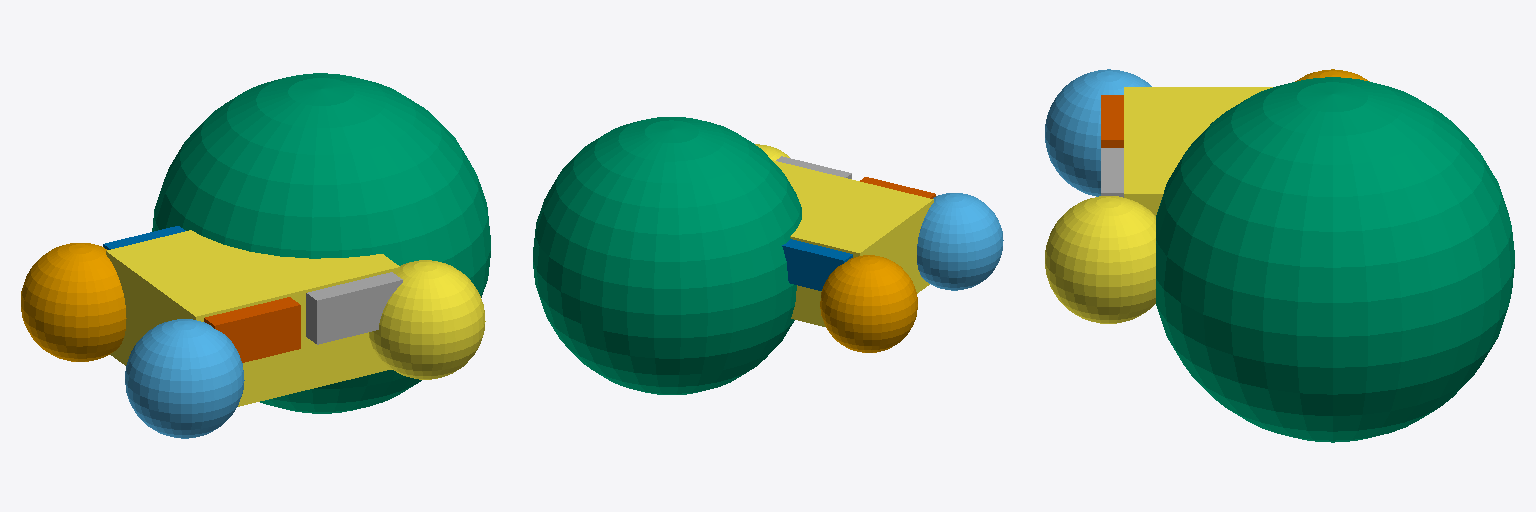
URDF robot description (TARS_V2):
<?xml version="1.0"?>
<!-- created with Phobos 0.8 -->
  <robot name="TARS_V2">

    <link name="link_camera_back">
    </link>

    <link name="link_camera_depth">
    </link>

    <link name="link_camera_front">
    </link>

    <link name="link_chassis">
      <inertial>
        <origin xyz="0 0 0.19608" rpy="0 0 0"/>
        <mass value="30.0"/>
        <inertia ixx="0.79449" ixy="0" ixz="0" iyy="1.21074" iyz="0" izz="1.56825"/>
      </inertial>
      <visual name="visual_chassis">
        <origin xyz="0 0 0" rpy="0 0 0"/>
        <geometry>
          <box size="0.63 0.48 0.29563"/>
        </geometry>
      </visual>
      <collision name="collision_chassis">
        <origin xyz="0 0 0.19608" rpy="0 0 0"/>
        <geometry>
          <box size="0.63 0.48 0.29562"/>
        </geometry>
      </collision>
    </link>

    <link name="link_suspension_backleft">
      <inertial>
        <origin xyz="-0.12007 -0.01981 -0.04013" rpy="0 0 0"/>
        <mass value="0.75"/>
        <inertia ixx="0.00147" ixy="0" ixz="0" iyy="0.00598" iyz="0" izz="0.00469"/>
      </inertial>
      <visual name="visual_suspension_backleft">
        <origin xyz="0 0 0" rpy="0 0 0"/>
        <geometry>
          <box size="0.26433 0.0781 0.12971"/>
        </geometry>
      </visual>
      <collision name="collision_suspension_backleft">
        <origin xyz="-0.12007 -0.01981 -0.04013" rpy="0 0 0"/>
        <geometry>
          <box size="0.27135 0.0381 0.14844"/>
        </geometry>
      </collision>
    </link>

    <link name="link_suspension_backright">
      <inertial>
        <origin xyz="-0.12007 0.02019 -0.04013" rpy="0 0 0"/>
        <mass value="0.75"/>
        <inertia ixx="0.00147" ixy="0" ixz="0" iyy="0.00598" iyz="0" izz="0.00469"/>
      </inertial>
      <visual name="visual_suspension_backright">
        <origin xyz="0 0 0" rpy="0 0 0"/>
        <geometry>
          <box size="0.26433 0.0781 0.12971"/>
        </geometry>
      </visual>
      <collision name="collision_suspension_backright">
        <origin xyz="-0.12007 0.02019 -0.04013" rpy="0 0 0"/>
        <geometry>
          <box size="0.27135 0.0381 0.14844"/>
        </geometry>
      </collision>
    </link>

    <link name="link_suspension_frontleft">
      <inertial>
        <origin xyz="0.12007 -0.02019 -0.04013" rpy="0 0 0"/>
        <mass value="0.75"/>
        <inertia ixx="0.00147" ixy="0" ixz="0" iyy="0.00598" iyz="0" izz="0.00469"/>
      </inertial>
      <visual name="visual_suspension_frontleft">
        <origin xyz="0 0 0" rpy="0 0 0"/>
        <geometry>
          <box size="0.26433 0.0781 0.12971"/>
        </geometry>
      </visual>
      <collision name="collision_suspension_frontleft">
        <origin xyz="0.12007 -0.02019 -0.04013" rpy="0 0 0"/>
        <geometry>
          <box size="0.27135 0.0381 0.14844"/>
        </geometry>
      </collision>
    </link>

    <link name="link_suspension_frontright">
      <inertial>
        <origin xyz="0.12007 0.01981 -0.04013" rpy="0 0 0"/>
        <mass value="0.75"/>
        <inertia ixx="0.00147" ixy="0" ixz="0" iyy="0.00598" iyz="0" izz="0.00469"/>
      </inertial>
      <visual name="visual_suspension_frontright">
        <origin xyz="0 0 0" rpy="0 0 0"/>
        <geometry>
          <box size="0.26433 0.0781 0.12972"/>
        </geometry>
      </visual>
      <collision name="collision_suspension_frontright">
        <origin xyz="0.12007 0.01981 -0.04013" rpy="0 0 0"/>
        <geometry>
          <box size="0.27134 0.0381 0.14845"/>
        </geometry>
      </collision>
    </link>

    <link name="link_wheel_backleft">
      <inertial>
        <origin xyz="0 0.10244 0" rpy="0 0 0"/>
        <mass value="1.5"/>
        <inertia ixx="0.01534" ixy="0" ixz="0" iyy="0.01534" iyz="0" izz="0.01534"/>
      </inertial>
      <visual name="visual_wheel_backleft">
        <origin xyz="0 0 0" rpy="0 0 0"/>
        <geometry>
          <sphere radius="0.15989"/>
        </geometry>
      </visual>
      <collision name="collision_wheel_backleft">
        <origin xyz="0 0.10244 0" rpy="0 0 0"/>
        <geometry>
          <sphere radius="0.15989"/>
        </geometry>
      </collision>
    </link>

    <link name="link_wheel_backright">
      <inertial>
        <origin xyz="0 -0.10254 0" rpy="0 0 0"/>
        <mass value="1.5"/>
        <inertia ixx="0.01534" ixy="0" ixz="0" iyy="0.01534" iyz="0" izz="0.01534"/>
      </inertial>
      <visual name="visual_wheel_backright">
        <origin xyz="0 0 0" rpy="0 0 0"/>
        <geometry>
          <sphere radius="0.15989"/>
        </geometry>
      </visual>
      <collision name="collision_wheel_backright">
        <origin xyz="0 -0.10254 0" rpy="0 0 0"/>
        <geometry>
          <sphere radius="0.15989"/>
        </geometry>
      </collision>
    </link>

    <link name="link_wheel_frontleft">
      <inertial>
        <origin xyz="0 0.10244 0" rpy="0 0 0"/>
        <mass value="1.5"/>
        <inertia ixx="0.01534" ixy="0" ixz="0" iyy="0.01534" iyz="0" izz="0.01534"/>
      </inertial>
      <visual name="visual_wheel_frontleft">
        <origin xyz="0 0 0" rpy="0 0 0"/>
        <geometry>
          <sphere radius="0.45447"/>
        </geometry>
      </visual>
      <collision name="collision_wheel_frontleft">
        <origin xyz="0 0.10244 0" rpy="0 0 0"/>
        <geometry>
          <sphere radius="0.15989"/>
        </geometry>
      </collision>
    </link>

    <link name="link_wheel_frontright">
      <inertial>
        <origin xyz="0 -0.10264 0" rpy="0 0 0"/>
        <mass value="1.5"/>
        <inertia ixx="0.01534" ixy="0" ixz="0" iyy="0.01534" iyz="0" izz="0.01534"/>
      </inertial>
      <visual name="visual_wheel_frontright">
        <origin xyz="0 0 0" rpy="0 0 0"/>
        <geometry>
          <sphere radius="0.15989"/>
        </geometry>
      </visual>
      <collision name="collision_wheel_frontright">
        <origin xyz="0 -0.10264 0" rpy="0 0 0"/>
        <geometry>
          <sphere radius="0.15989"/>
        </geometry>
      </collision>
    </link>

    <joint name="link_camera_back" type="fixed">
      <origin xyz="-0.315 1e-05 0.3439" rpy="3.14159 1.5708 0"/>
      <parent link="link_chassis"/>
      <child link="link_camera_back"/>
    </joint>

    <joint name="link_camera_depth" type="fixed">
      <origin xyz="0.315 1e-05 0.3439" rpy="0 1.5708 0"/>
      <parent link="link_chassis"/>
      <child link="link_camera_depth"/>
    </joint>

    <joint name="link_camera_front" type="fixed">
      <origin xyz="0.315 -0.11999 0.3439" rpy="0 1.5708 0"/>
      <parent link="link_chassis"/>
      <child link="link_camera_front"/>
    </joint>

    <joint name="link_suspension_backleft" type="fixed">
      <origin xyz="-0.15754 0.25888 0.07402" rpy="0 0 0"/>
      <parent link="link_chassis"/>
      <child link="link_suspension_backleft"/>
    </joint>

    <joint name="link_suspension_backright" type="fixed">
      <origin xyz="-0.15754 -0.25922 0.07402" rpy="0 0 0"/>
      <parent link="link_chassis"/>
      <child link="link_suspension_backright"/>
    </joint>

    <joint name="link_suspension_frontleft" type="fixed">
      <origin xyz="0.15754 0.25925 0.07402" rpy="0 0 0"/>
      <parent link="link_chassis"/>
      <child link="link_suspension_frontleft"/>
    </joint>

    <joint name="link_suspension_frontright" type="fixed">
      <origin xyz="0.15755 -0.25885 0.07403" rpy="0 0 0"/>
      <parent link="link_chassis"/>
      <child link="link_suspension_frontright"/>
    </joint>

    <joint name="link_wheel_backleft" type="floating">
      <origin xyz="-0.21346 0.01924 -0.08012" rpy="0 0 0"/>
      <parent link="link_suspension_backleft"/>
      <child link="link_wheel_backleft"/>
    </joint>

    <joint name="link_wheel_backright" type="floating">
      <origin xyz="-0.21346 -0.01886 -0.08012" rpy="0 0 0"/>
      <parent link="link_suspension_backright"/>
      <child link="link_wheel_backright"/>
    </joint>

    <joint name="link_wheel_frontleft" type="floating">
      <origin xyz="0.21346 0.01886 -0.08012" rpy="0 0 0"/>
      <parent link="link_suspension_frontleft"/>
      <child link="link_wheel_frontleft"/>
    </joint>

    <joint name="link_wheel_frontright" type="floating">
      <origin xyz="0.21345 -0.01924 -0.08014" rpy="0 0 0"/>
      <parent link="link_suspension_frontright"/>
      <child link="link_wheel_frontright"/>
    </joint>

  </robot>

--- Render facts (derived) ---
The picture shows the robot from 3 angles, left to right: view 1: azimuth 30°, elevation 25°; view 2: azimuth 150°, elevation 25°; view 3: azimuth 270°, elevation 25°; orthographic projection.
Robot: TARS_V2 — 12 links, 11 joints (7 fixed, 4 floating); root link link_chassis; default pose: all joints at 0.
Visible links, largest first — view 1: link_wheel_frontleft, link_chassis, link_wheel_backright, link_wheel_frontright, link_wheel_backleft, link_suspension_frontright, link_suspension_backright, link_suspension_backleft; view 2: link_wheel_frontleft, link_chassis, link_wheel_backleft, link_wheel_backright, link_suspension_backleft; view 3: link_wheel_frontleft, link_wheel_frontright, link_chassis, link_wheel_backright, link_suspension_backright, link_suspension_frontright.
Boxes of the visible links, x1,y1,x2,y2 form: link_wheel_frontleft: [152, 73, 490, 413]; link_chassis: [106, 230, 399, 406]; link_wheel_backright: [125, 319, 244, 438]; link_wheel_frontright: [369, 260, 485, 379]; link_wheel_backleft: [21, 243, 126, 361]; link_suspension_frontright: [306, 272, 402, 344]; link_suspension_backright: [204, 297, 300, 362]; link_suspension_backleft: [103, 226, 185, 249]; link_wheel_frontleft: [533, 117, 801, 394]; link_chassis: [772, 160, 933, 326]; link_wheel_backleft: [820, 255, 917, 352]; link_wheel_backright: [917, 193, 1003, 290]; link_suspension_backleft: [782, 239, 852, 290]; link_wheel_frontleft: [1156, 77, 1514, 442]; link_wheel_frontright: [1045, 196, 1155, 323]; link_chassis: [1124, 87, 1272, 215]; link_wheel_backright: [1045, 69, 1151, 196]; link_suspension_backright: [1101, 95, 1123, 147]; link_suspension_frontright: [1101, 148, 1123, 197].
Size in the robot's own frame: 1.36 by 1.17 by 0.9089 metres.
Geometry: primitives only (box / cylinder / sphere), no mesh files.